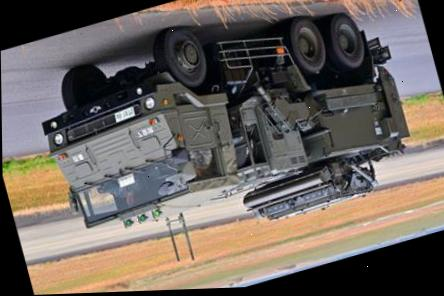truck: (21, 0, 433, 260)
